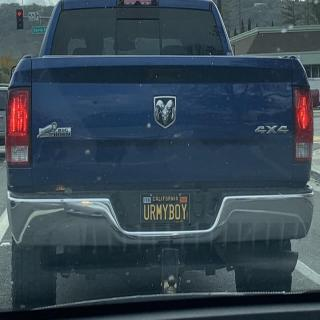license: (141, 192, 192, 228)
